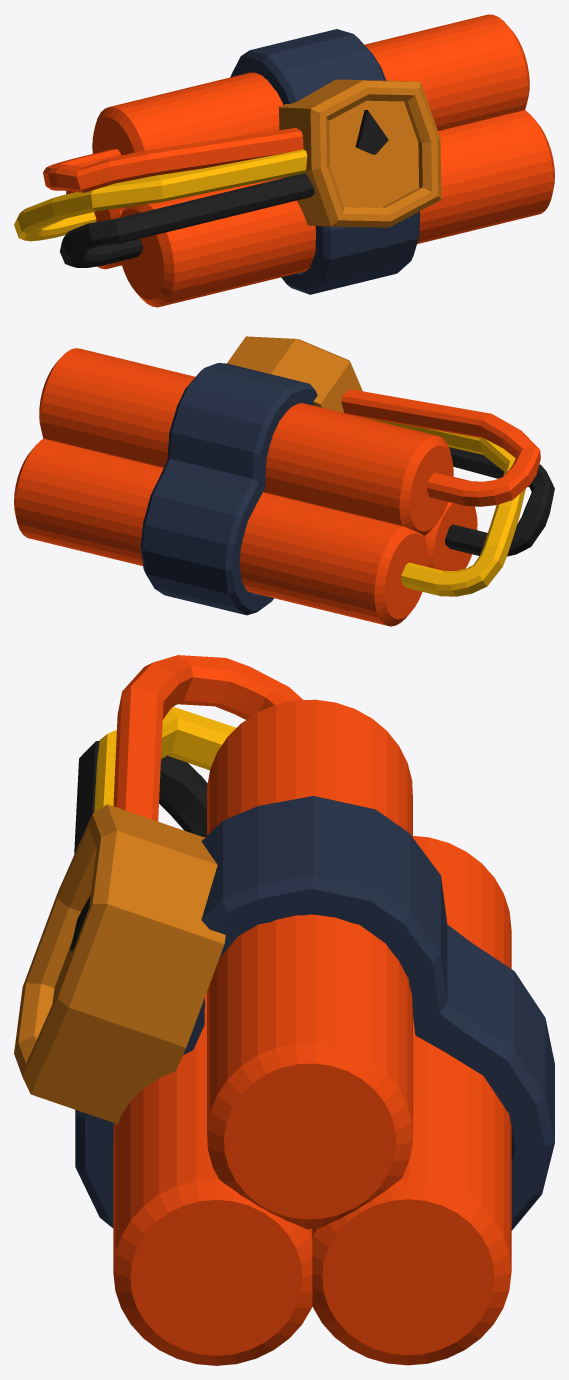
File: TntSaatli.fbx
3 views of the same model, one above another, from view 1: azimuth 30°, elevation 25°; view 2: azimuth 150°, elevation 25°; view 3: azimuth 270°, elevation 25° (orthographic). The views are drawn at different scales.
Parts seen in each view (by area): view 1: Tnt Saatli; view 2: Tnt Saatli; view 3: Tnt Saatli.
Boxes of the visible parts, x1,y1,x2,y2 form: Tnt Saatli: [14, 14, 554, 307]; Tnt Saatli: [14, 336, 554, 626]; Tnt Saatli: [14, 655, 554, 1365].
Bounding box in the file's own units: 987 × 431 × 524.
